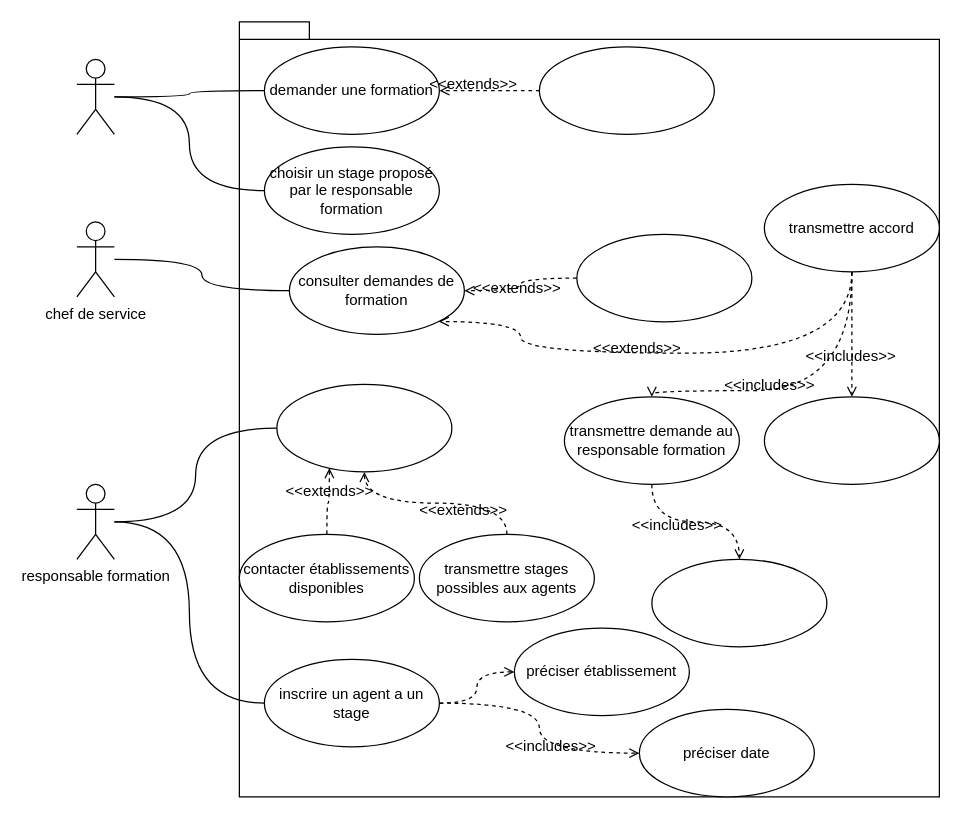
Image size: 961x819. Some labels were removed from this diagram. Each missing label, with the box of its shape:
agent: (76, 58, 114, 134)
ajouter dates possibles de formation: (651, 558, 827, 647)
consulter catalogue de formations: (276, 383, 452, 472)
consulter stages possibles pour une formation demandée: (538, 46, 714, 134)
transmettre accord a l'agent: (763, 396, 939, 484)
transmettre désaccord à l'agent: (576, 233, 752, 322)
